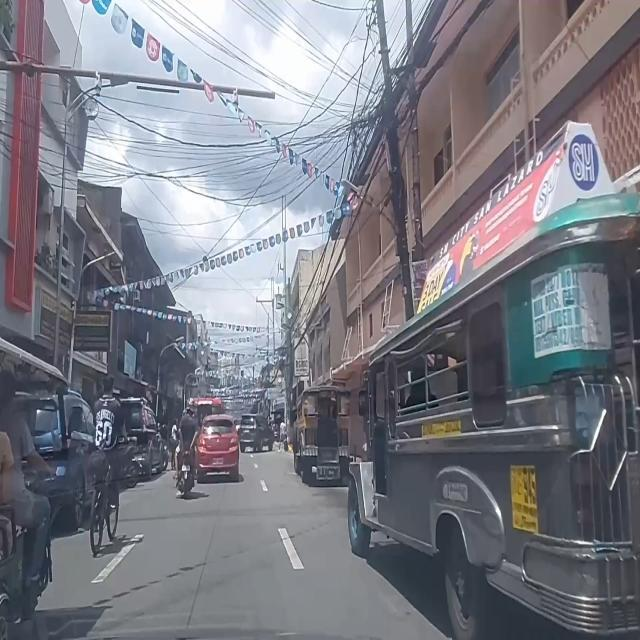bike: (85, 376, 124, 556)
car: (34, 390, 98, 530), (118, 396, 164, 478), (197, 414, 240, 484), (239, 413, 275, 453)
jeepney: (347, 124, 640, 633), (297, 382, 354, 489), (186, 397, 224, 433)
motorcycle: (177, 398, 194, 498)
tricycle: (0, 334, 68, 640)
